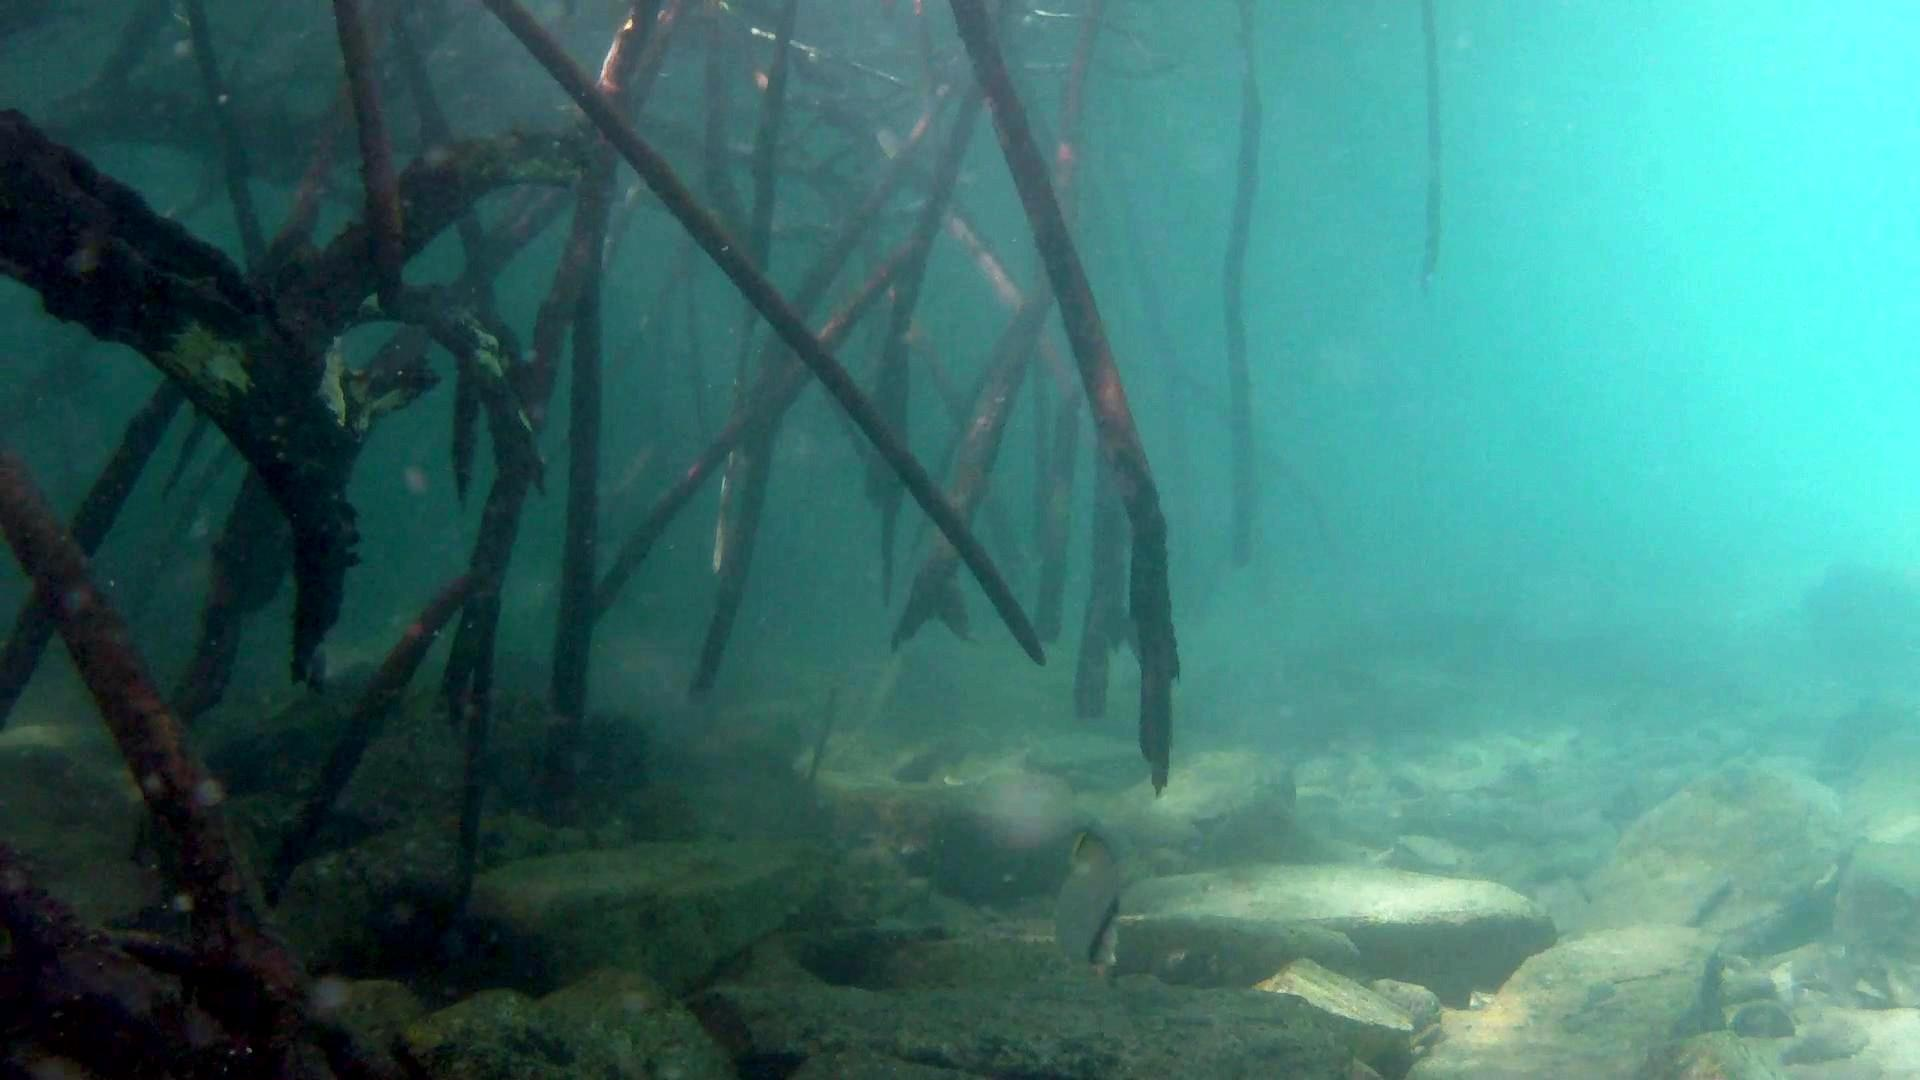chaetodon vagabundus: (1047, 827, 1127, 973)
